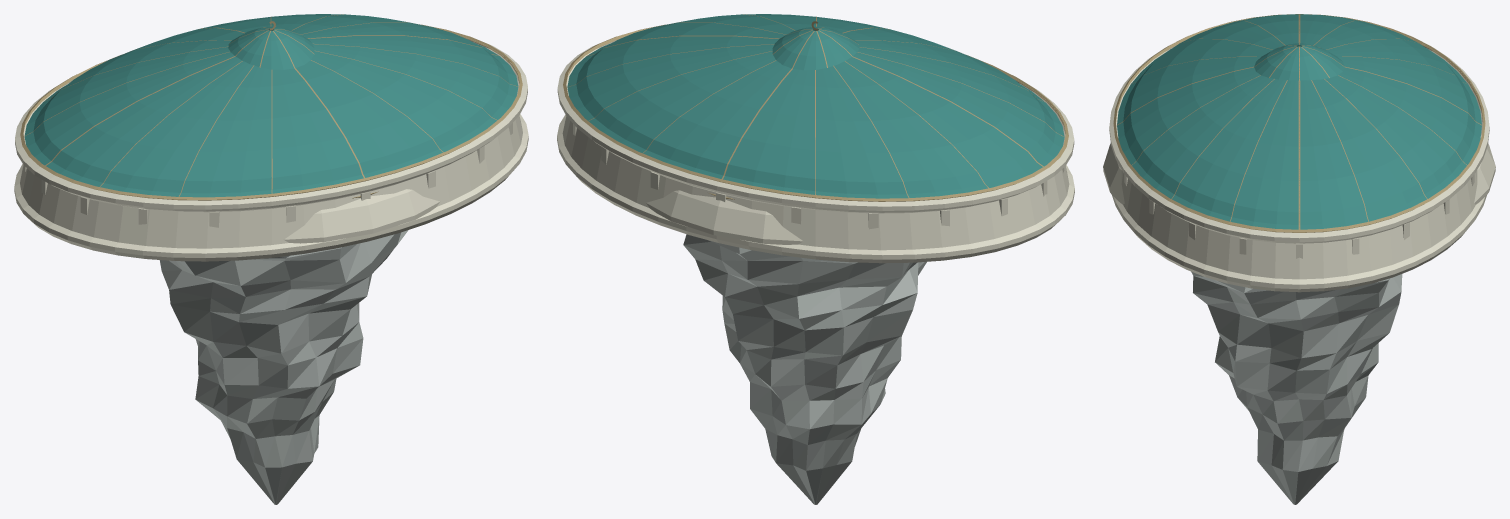
File: world06-skyline-v1.glb
3 views of the same model, side by side, from view 1: azimuth 30°, elevation 25°; view 2: azimuth 150°, elevation 25°; view 3: azimuth 270°, elevation 25° (orthographic). The views are drawn at different scales.
Visible parts, largest first — view 1: temple-foreground-roof-jade_roof, temple-distant-island-neutral_rock, temple-foreground-roof-warm_limestone, temple-foreground-roof-aged_bronze, temple-distant-island-warm_limestone, temple-distant-island-jade_roof; view 2: temple-foreground-roof-jade_roof, temple-distant-island-neutral_rock, temple-foreground-roof-warm_limestone, temple-foreground-roof-aged_bronze, temple-distant-island-warm_limestone, temple-distant-island-jade_roof; view 3: temple-foreground-roof-jade_roof, temple-distant-island-neutral_rock, temple-foreground-roof-warm_limestone, temple-foreground-roof-aged_bronze, temple-distant-island-jade_roof, temple-distant-island-warm_limestone.
Boxes of the visible parts, bbox=[...] form: temple-foreground-roof-jade_roof: bbox=[24, 14, 518, 197]; temple-distant-island-neutral_rock: bbox=[159, 230, 408, 504]; temple-foreground-roof-warm_limestone: bbox=[14, 39, 528, 261]; temple-foreground-roof-aged_bronze: bbox=[20, 14, 522, 200]; temple-distant-island-warm_limestone: bbox=[284, 189, 439, 243]; temple-distant-island-jade_roof: bbox=[228, 26, 314, 69]; temple-foreground-roof-jade_roof: bbox=[567, 14, 1064, 198]; temple-distant-island-neutral_rock: bbox=[683, 234, 926, 504]; temple-foreground-roof-warm_limestone: bbox=[557, 40, 1074, 263]; temple-foreground-roof-aged_bronze: bbox=[563, 14, 1068, 201]; temple-distant-island-warm_limestone: bbox=[646, 190, 803, 244]; temple-distant-island-jade_roof: bbox=[772, 26, 859, 70]; temple-foreground-roof-jade_roof: bbox=[1117, 14, 1481, 229]; temple-distant-island-neutral_rock: bbox=[1191, 271, 1402, 504]; temple-foreground-roof-warm_limestone: bbox=[1109, 39, 1489, 292]; temple-foreground-roof-aged_bronze: bbox=[1113, 14, 1485, 232]; temple-distant-island-jade_roof: bbox=[1254, 43, 1344, 80]; temple-distant-island-warm_limestone: bbox=[1103, 143, 1495, 204].
Size of the model in its own units: 18.32 by 17.76 by 13.6.
